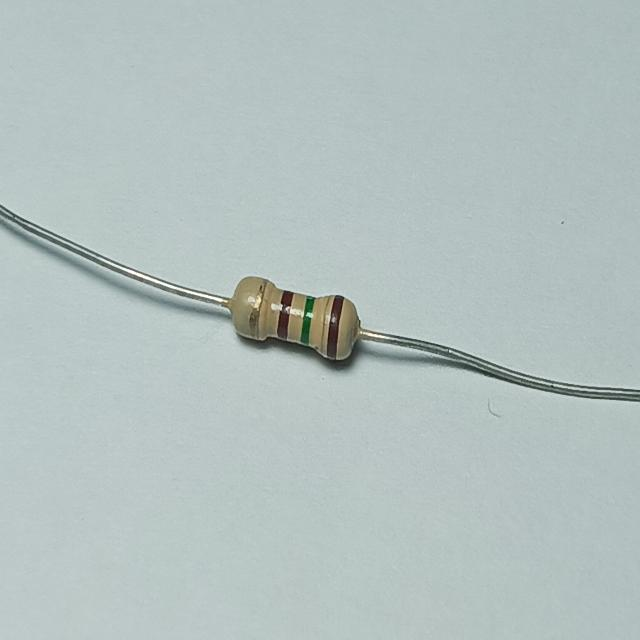150 ohms: (221, 273, 376, 369)
